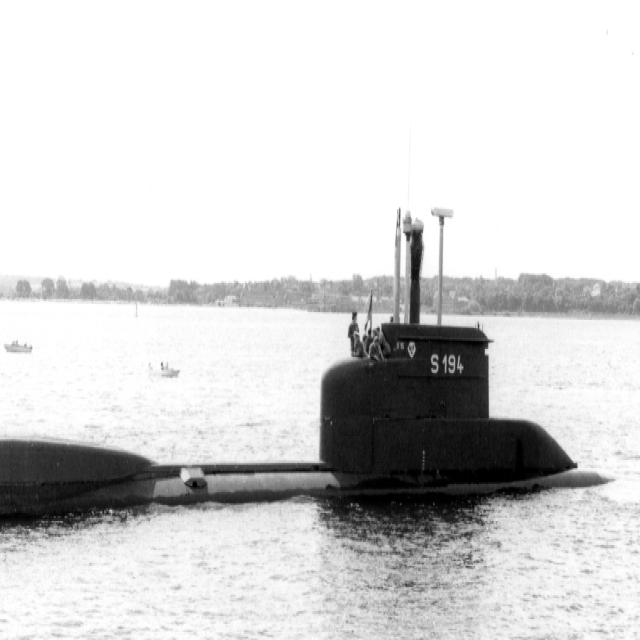submarine: (1, 169, 640, 513)
